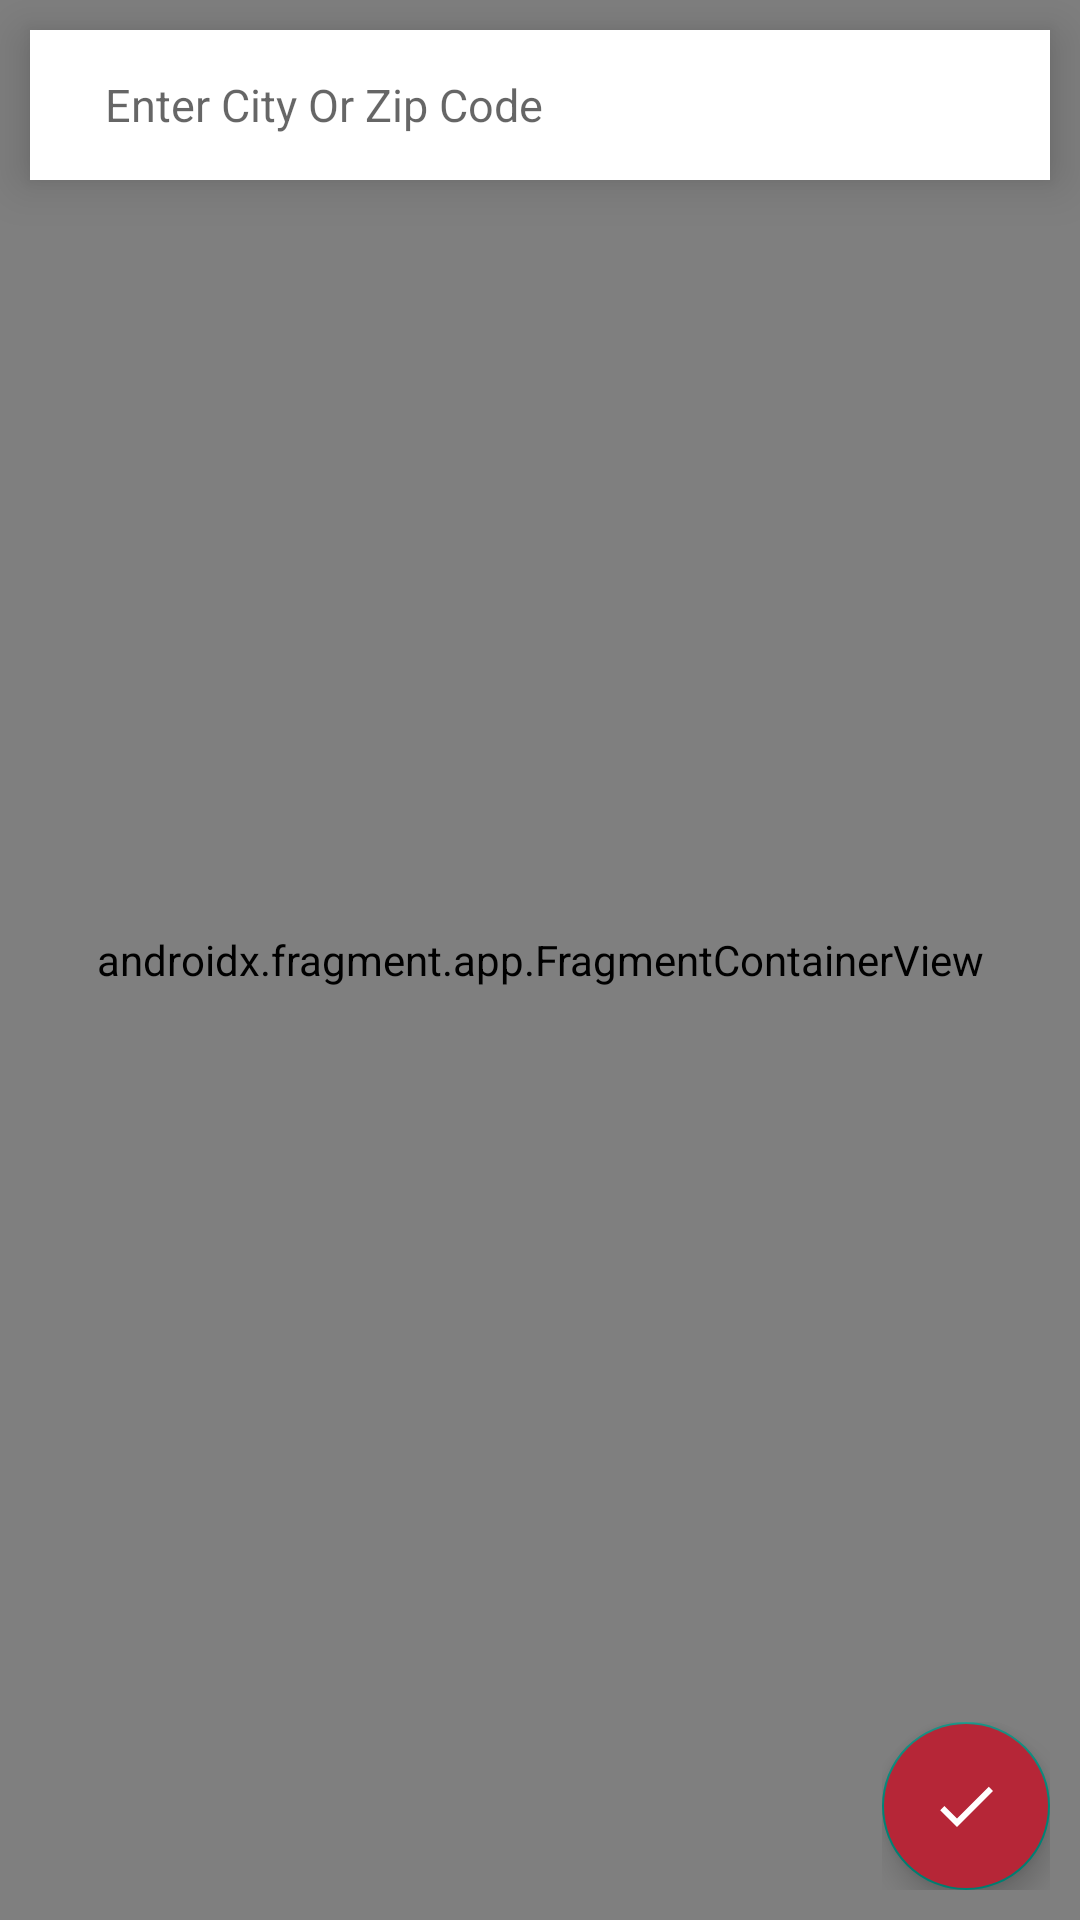

Screen size 1080x1920. Icon name, then its box in pixels as box(x1, y1, x2, y2):
done: box(882, 1722, 1050, 1890)
